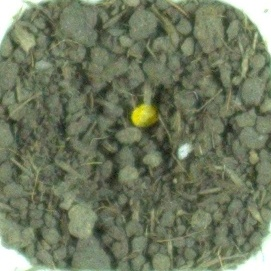pepper seed: (50, 38, 211, 167)
